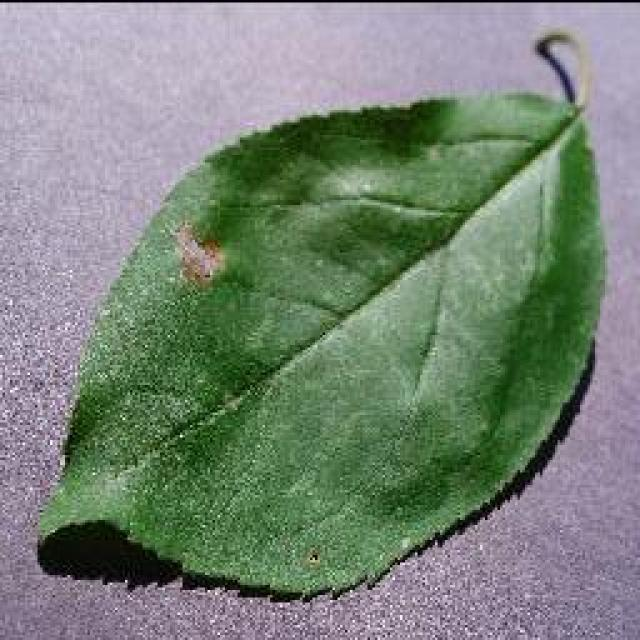apple black rot: (32, 30, 608, 602)
